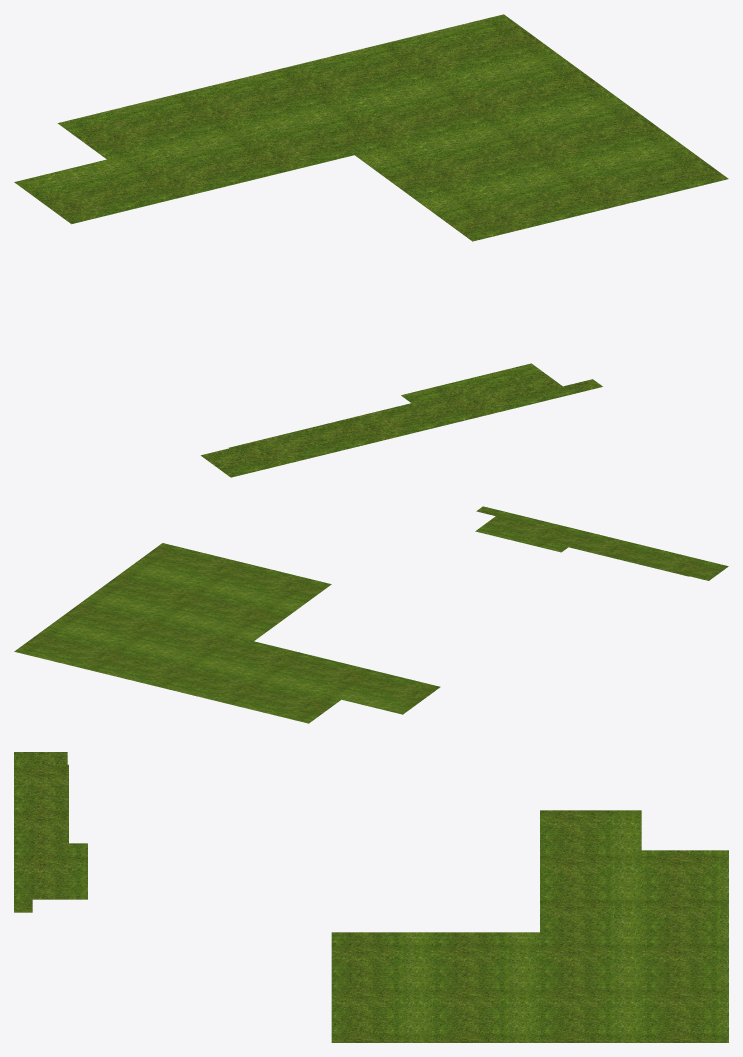
File: arq_pasto.FBX
3 views of the same model, one above another, from view 1: azimuth 30°, elevation 25°; view 2: azimuth 150°, elevation 25°; view 3: azimuth 270°, elevation 25° (orthographic). The views are drawn at different scales.
Parts seen in each view (by area): view 1: arq_pasto; view 2: arq_pasto; view 3: arq_pasto.
Boxes of the visible parts, x1,y1,x2,y2 form: arq_pasto: (14, 14, 728, 477); arq_pasto: (14, 506, 728, 723); arq_pasto: (14, 752, 728, 1042).
Bounding box in the file's own units: 13.06 × 0.0299 × 13.51.
Materials: 1 (1 with a texture image).
